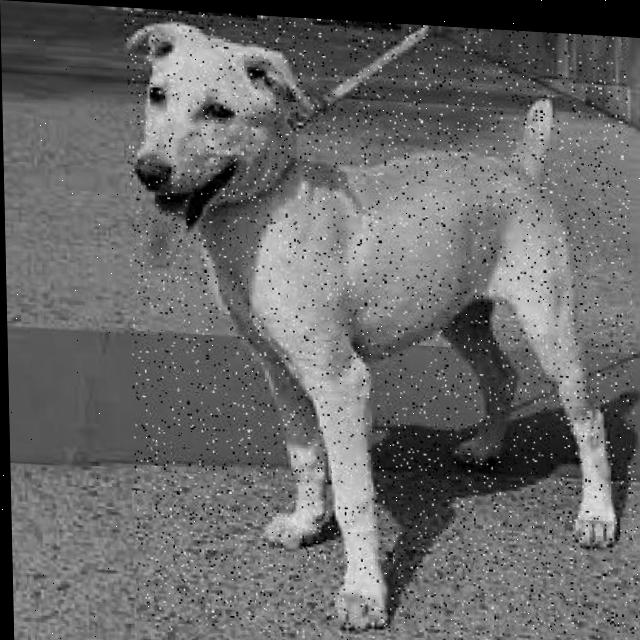Dog: (125, 8, 640, 640)
